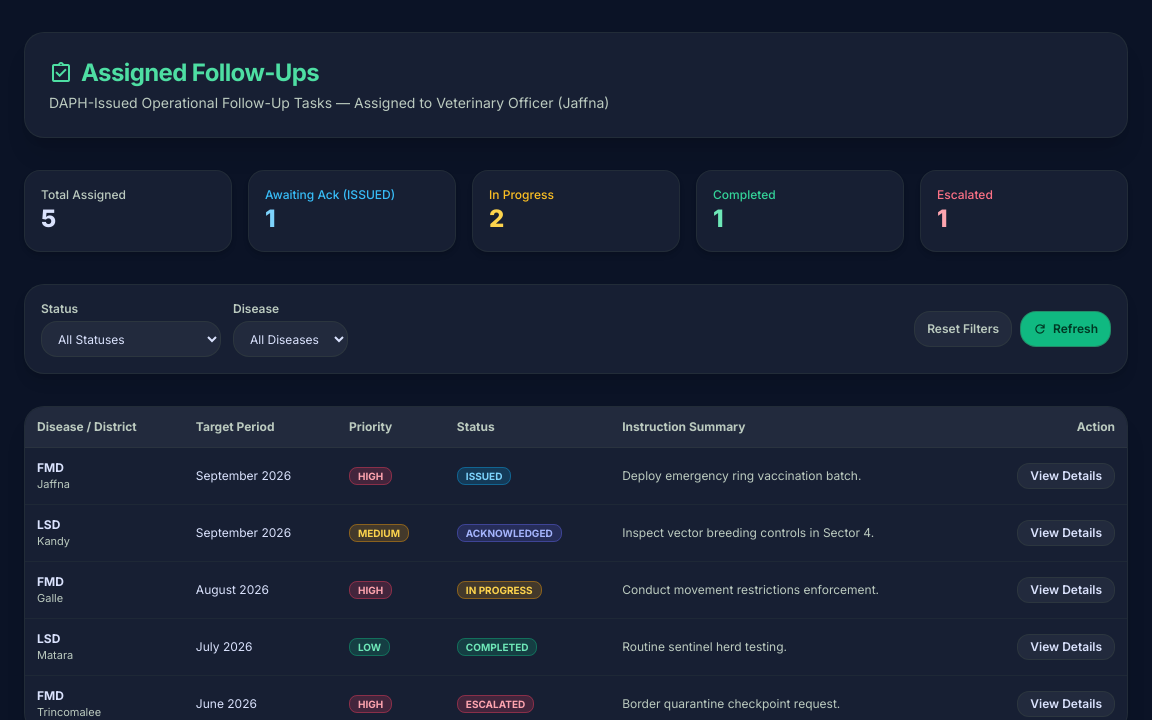
Test: VeterinaryAssignedFollowUps Component › UI Defect Remediation Validation › proves modal close button works
The image size is (1152, 720).
expect the text "Jaffna" is shown: met, box [37, 476, 70, 492]
Click the button "View Details" next to "Deploy emergency ring vaccination batch." at (1066, 476), box [1017, 463, 1115, 489]
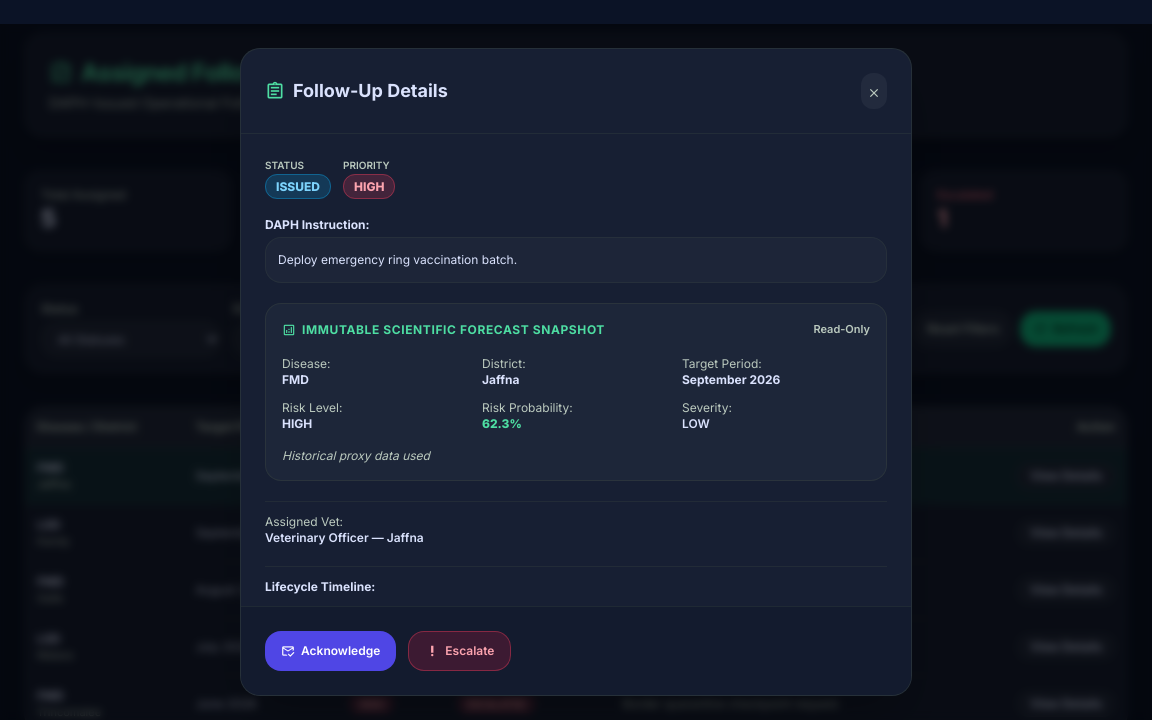
expect the heading "Follow-Up Details" is shown: met, box [265, 77, 448, 105]
Click the button named "Close detail modal" at (874, 91), box [861, 73, 887, 109]
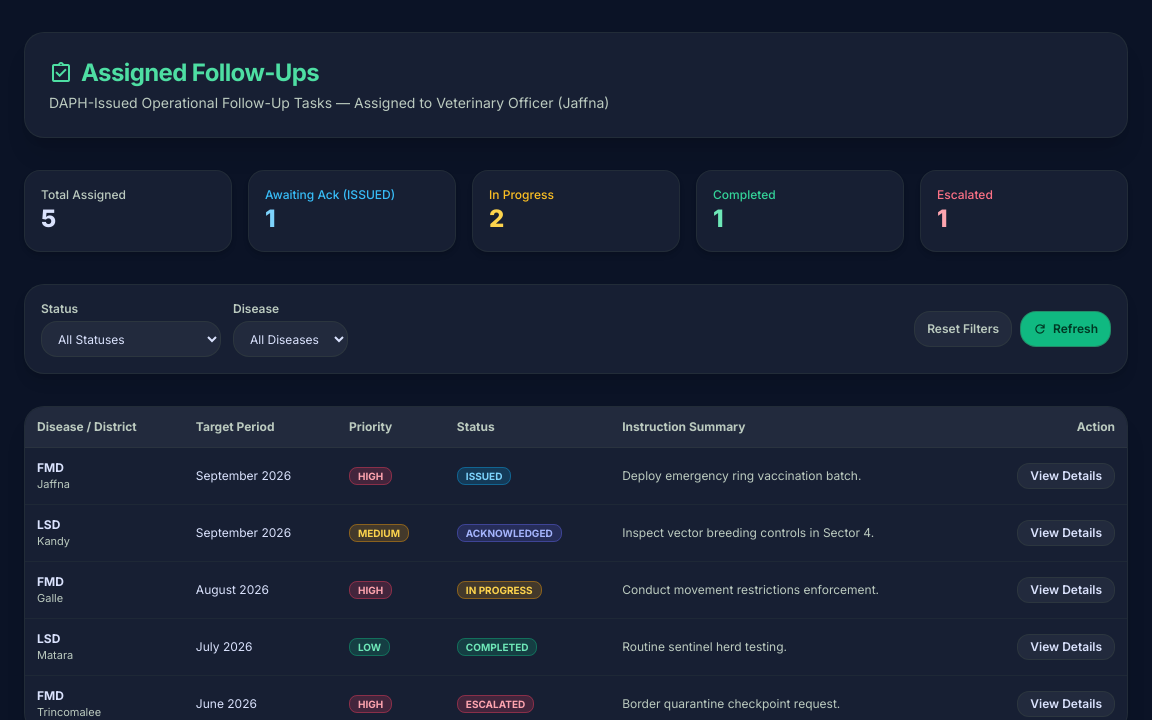
expect the text "Follow-Up Details" is gone: met
